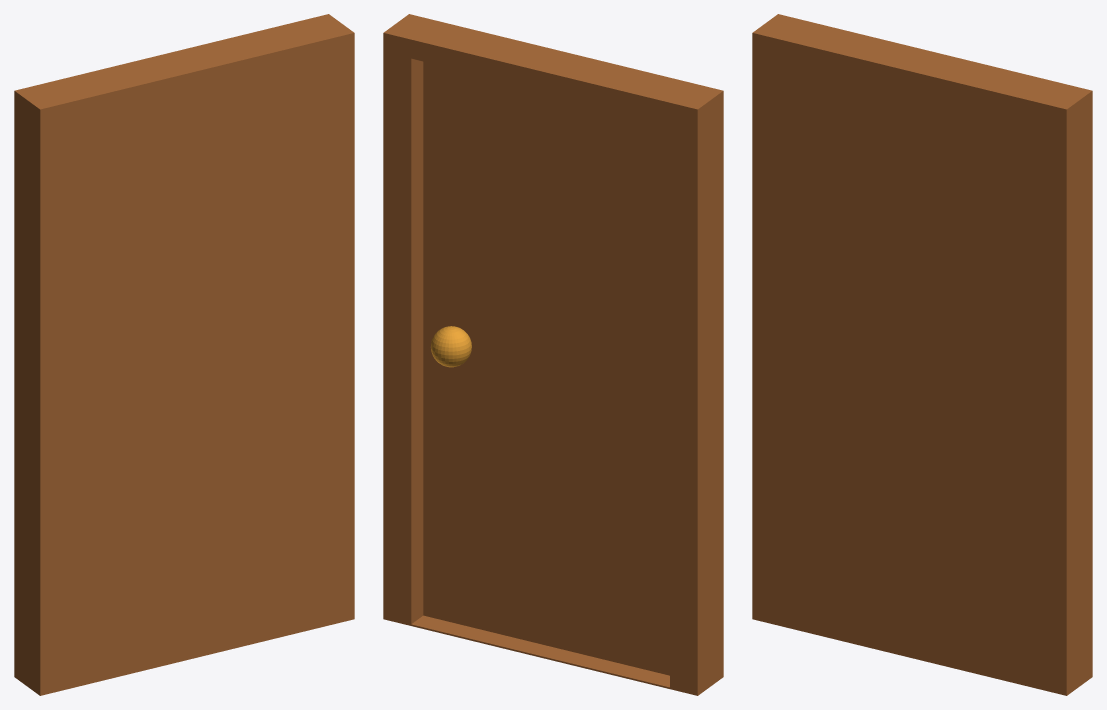
Rendered from WoodDoor.fbx.
3 renders of one model, left to right at view 1: azimuth 30°, elevation 25°; view 2: azimuth 150°, elevation 25°; view 3: azimuth 330°, elevation 25°, orthographic.
Parts seen in each view (by area): view 1: Cube.002; view 2: Cube.002; view 3: Cube.002.
Part boxes in pixels (<box>): Cube.002: <box>14,14,354,695</box>; Cube.002: <box>383,14,723,695</box>; Cube.002: <box>752,14,1092,695</box>.
Bounding box in the file's own units: 613 × 1092 × 109.
